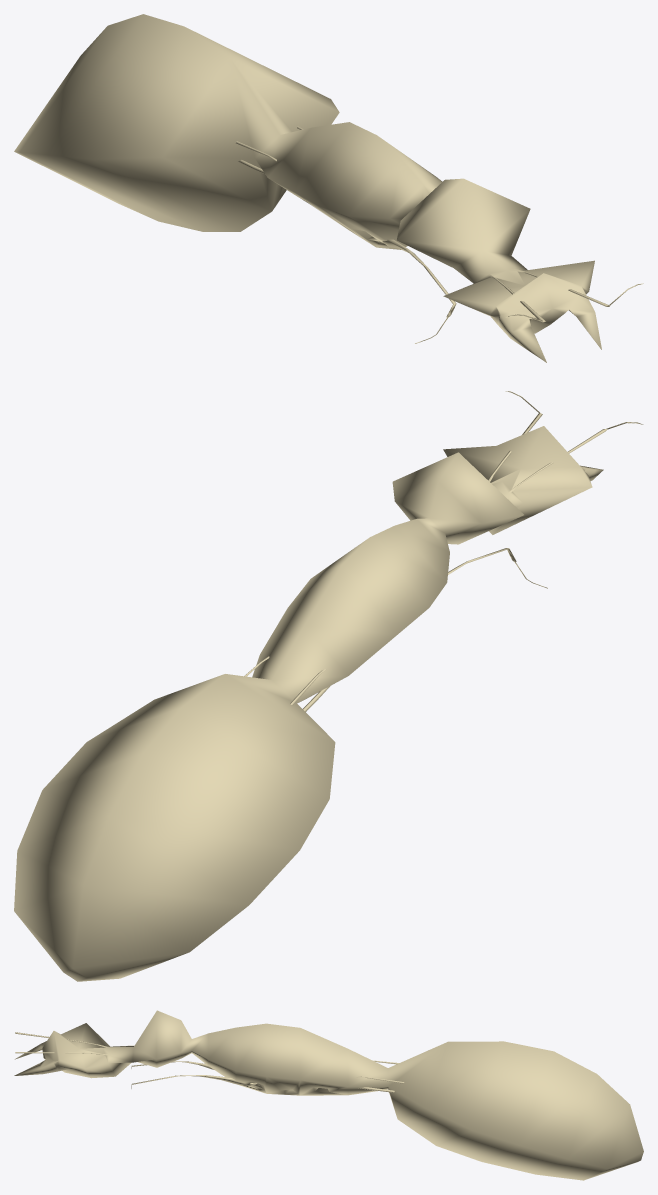
Rendered from ant-pupa.glb.
The picture shows the model from 3 angles, top to bottom: view 1: azimuth 30°, elevation 25°; view 2: azimuth 150°, elevation 25°; view 3: azimuth 270°, elevation 25°; orthographic projection. The views are drawn at different scales.
Visible parts, largest first — view 1: Ant; view 2: Ant; view 3: Ant.
Boxes of the visible parts, <box> form: Ant: <box>14,14,643,362</box>; Ant: <box>14,391,643,981</box>; Ant: <box>14,1010,643,1180</box>.
Size of the model in its own units: 0.2363 by 0.2435 by 0.8112.
